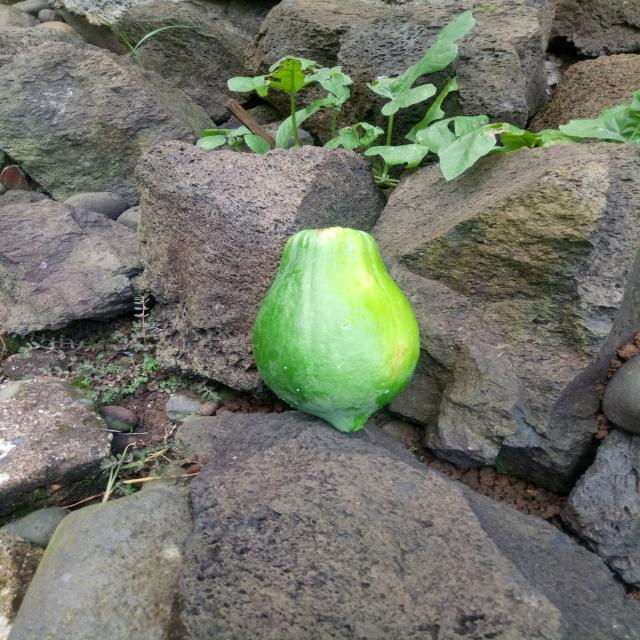Pepaya unrippen: (246, 220, 418, 433)
